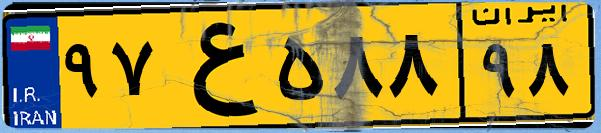5: (270, 28, 330, 110)
7: (110, 28, 158, 98)
8: (385, 28, 445, 110), (330, 28, 385, 110), (525, 38, 570, 115)
9: (57, 26, 110, 100), (475, 38, 525, 113)
ع: (158, 12, 270, 120)
